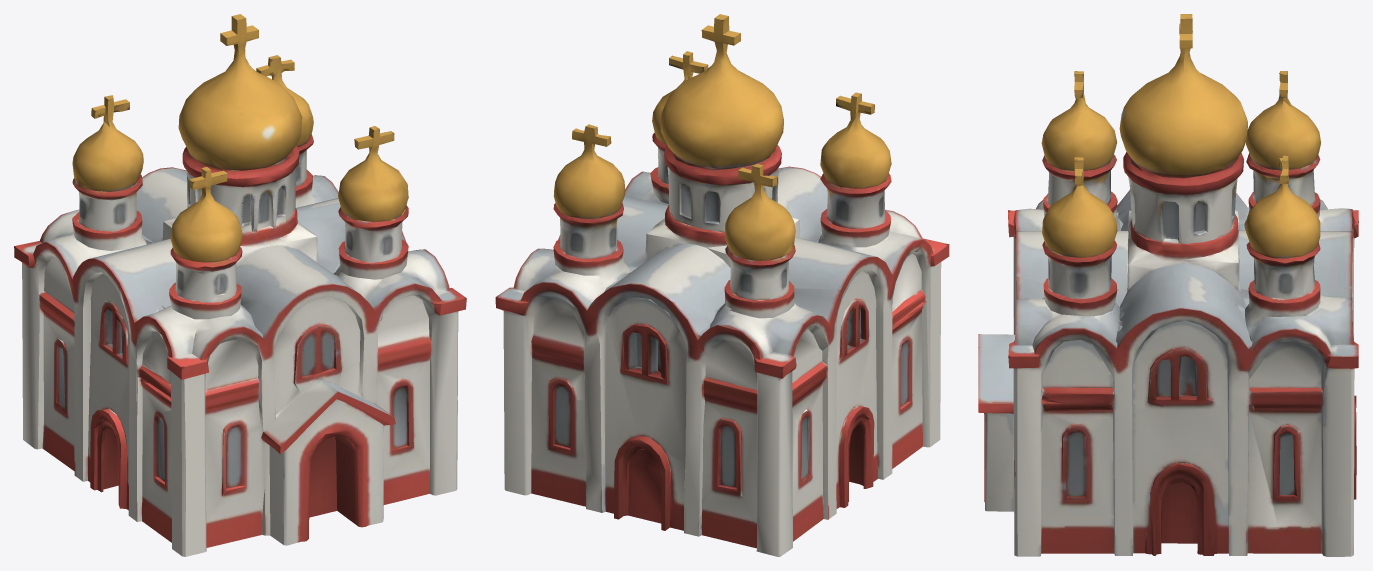
The model's file is w4-holy-virgin.glb.
The picture shows the model from 3 angles, left to right: view 1: azimuth 30°, elevation 25°; view 2: azimuth 150°, elevation 25°; view 3: azimuth 270°, elevation 25°; orthographic projection. The views are drawn at different scales.
Visible parts, largest first — view 1: w4-holy-virgin; view 2: w4-holy-virgin; view 3: w4-holy-virgin.
Part boxes in pixels (left/top/right/bottom): w4-holy-virgin: left=14, top=14, right=466, bottom=556; w4-holy-virgin: left=495, top=14, right=949, bottom=556; w4-holy-virgin: left=978, top=14, right=1358, bottom=556.
Bounding box in the file's own units: 6.1 × 9.1 × 6.69.
Materials: 1 (1 with a texture image).
